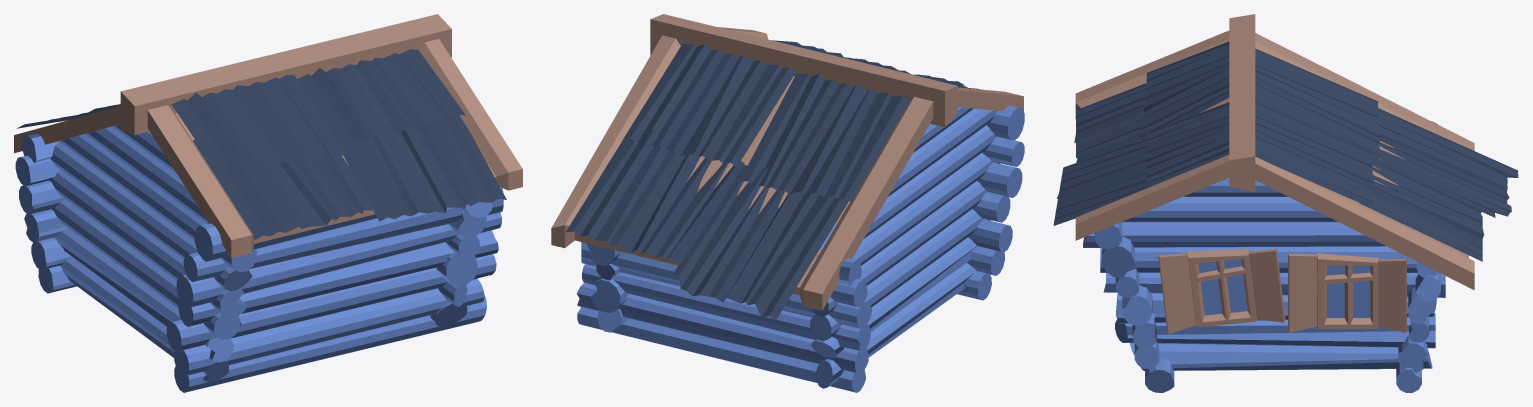
The model's file is isba_small.gltf.
The picture shows the model from 3 angles, left to right: view 1: azimuth 30°, elevation 25°; view 2: azimuth 150°, elevation 25°; view 3: azimuth 270°, elevation 25°; orthographic projection. The views are drawn at different scales.
Parts seen in each view (by area): view 1: Cube.038; view 2: Cube.038; view 3: Cube.038.
Boxes of the visible parts, left/top/right/bottom form: Cube.038: left=14, top=14, right=522, bottom=392; Cube.038: left=551, top=14, right=1024, bottom=392; Cube.038: left=1053, top=14, right=1518, bottom=392.
Bounding box in the file's own units: 0.4851 × 0.38 × 0.6579.
